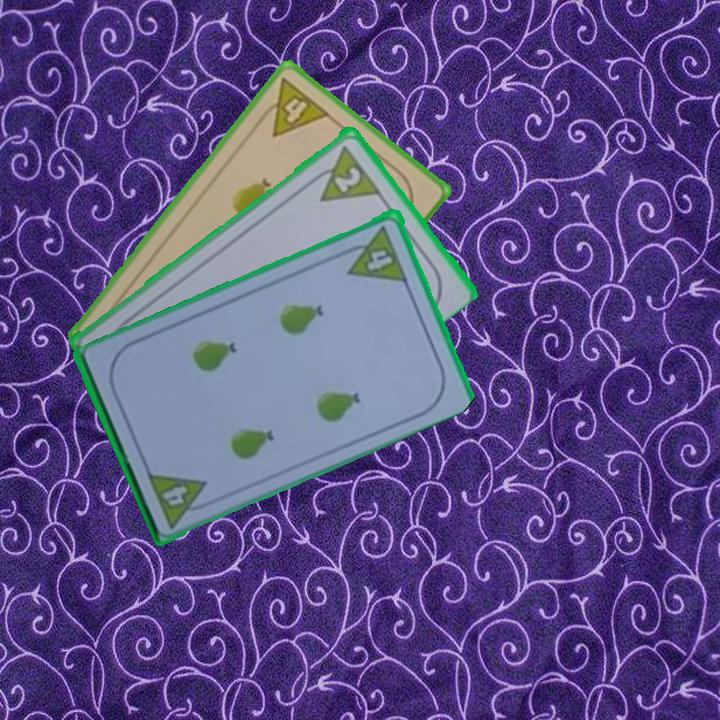2p: (331, 162, 364, 195)
4p: (252, 73, 333, 140), (337, 221, 411, 284), (144, 469, 218, 531)
